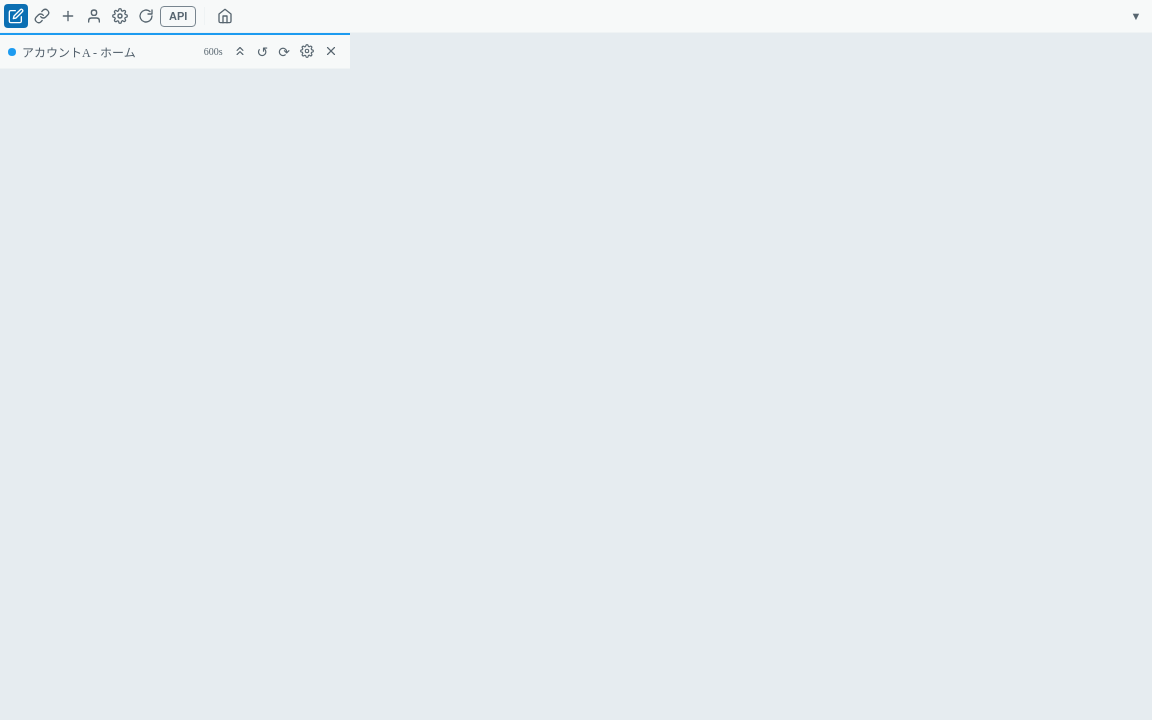
Test: App (フック抽出前の特性テスト) › カラム追加後のジャンプ › カラム追加に失敗したときは新カラムへジャンプしない
Step 1. Click the button titled "カラムを追加 (Ctrl+N)" → point(68, 16), box [56,4,80,28]
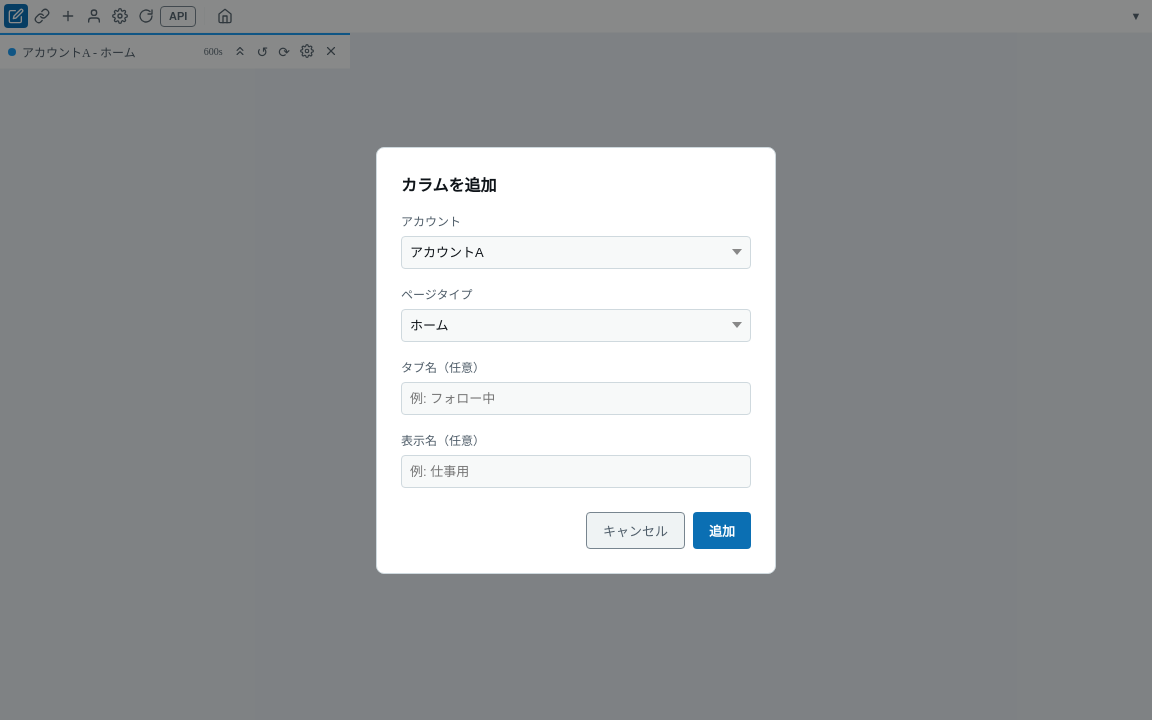
Step 2. Click the button "追加" → point(722, 530), box [693,512,751,548]
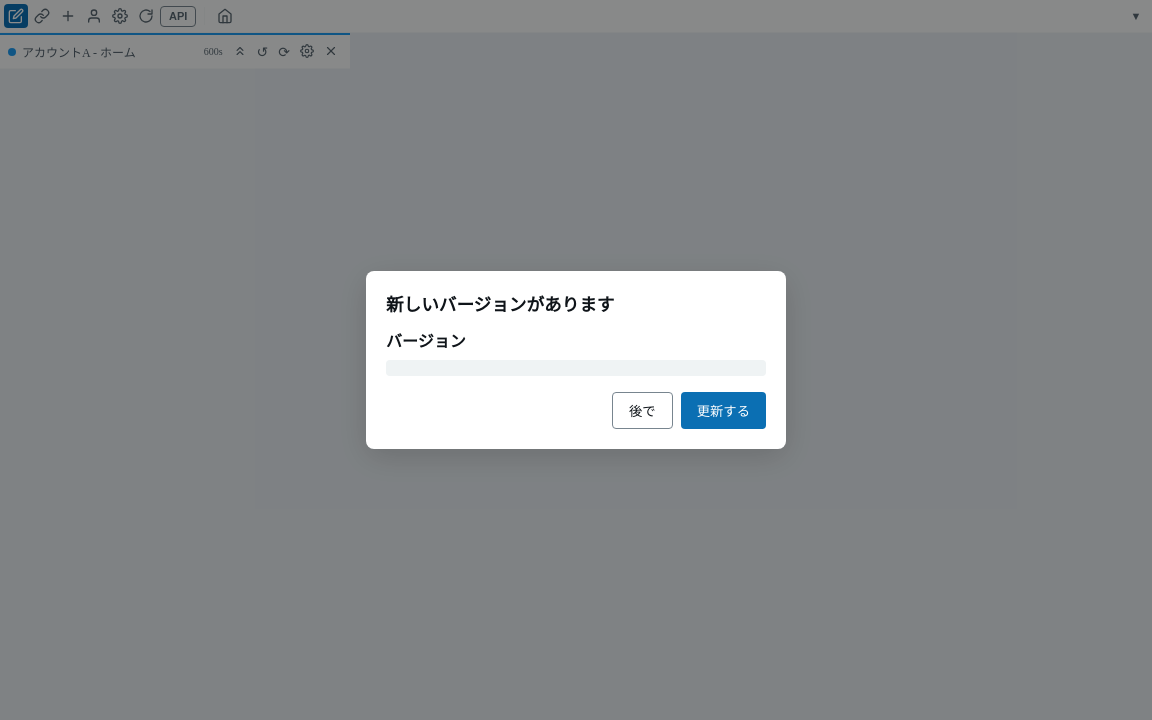
Result: the heading "追加" is gone
